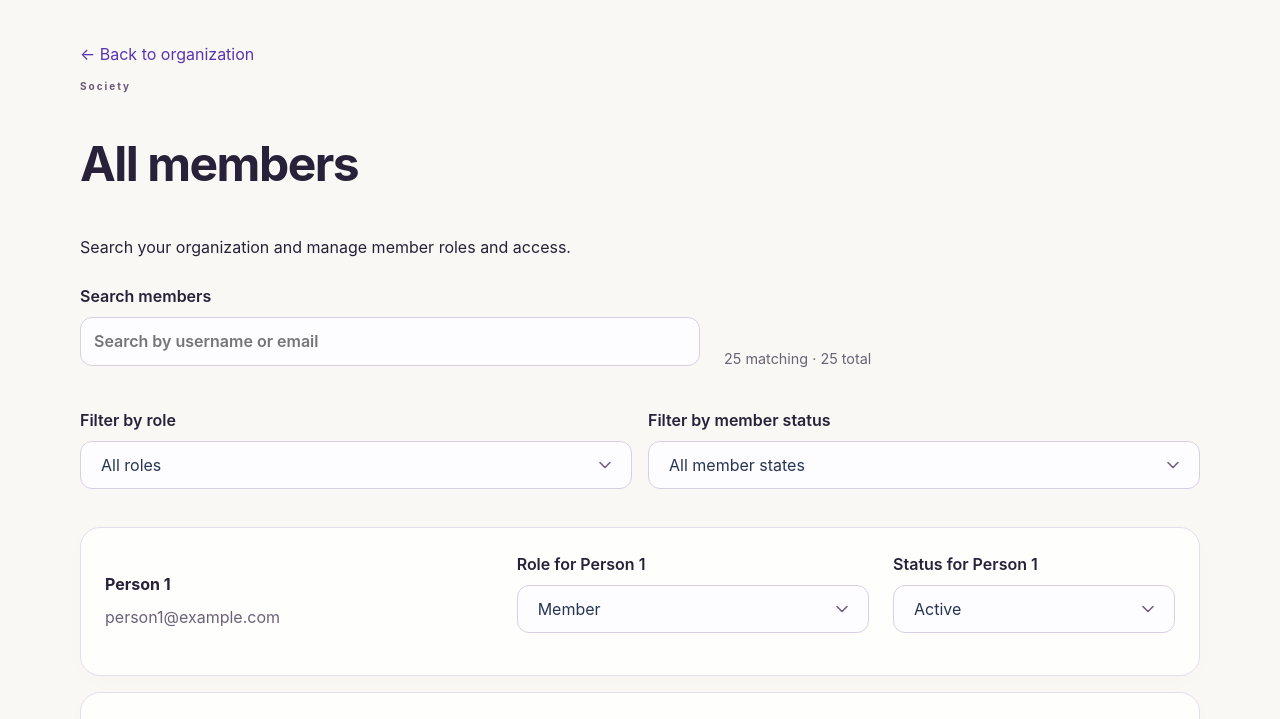
preserves versioned role updates on the full directory
Expected: the text "Person 1" is shown, x1=105 y1=574 x2=171 y2=594
Click the dropdown named "Role for Person 1 " at (569, 609), box x1=517 y1=585 x2=869 y2=633
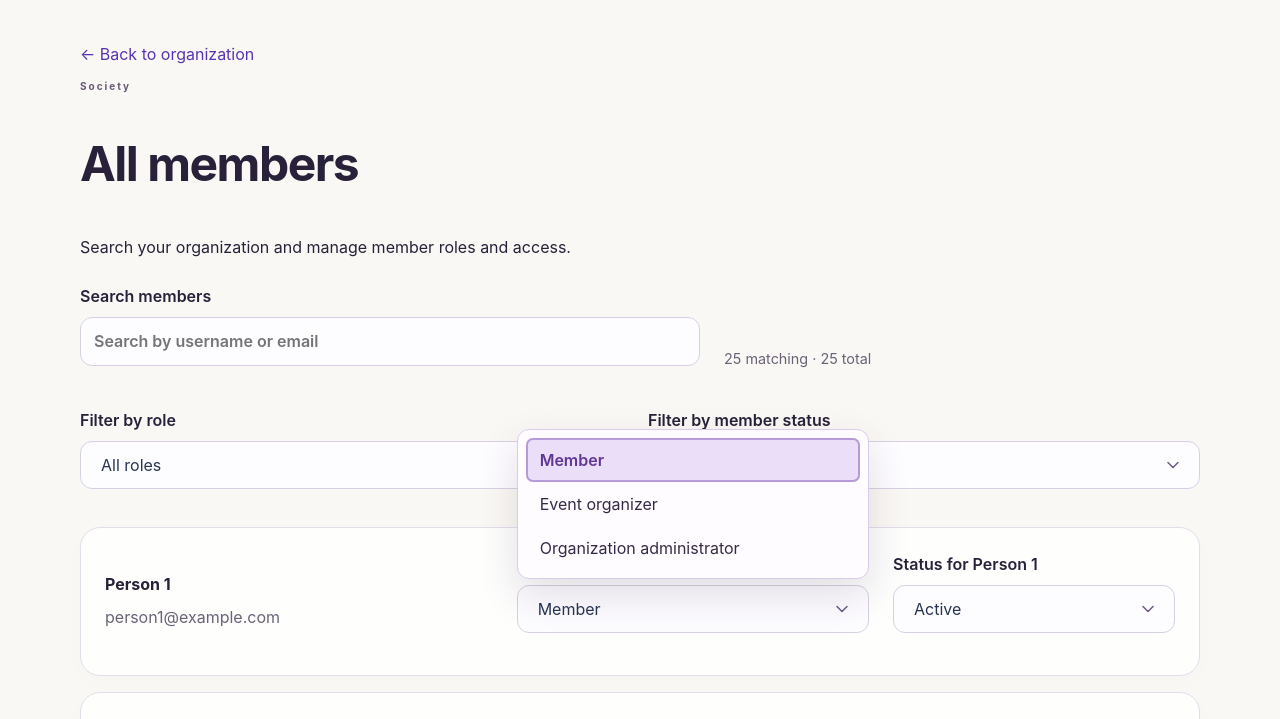
Click the option "Event organizer" at (599, 504), box x1=526 y1=482 x2=860 y2=526
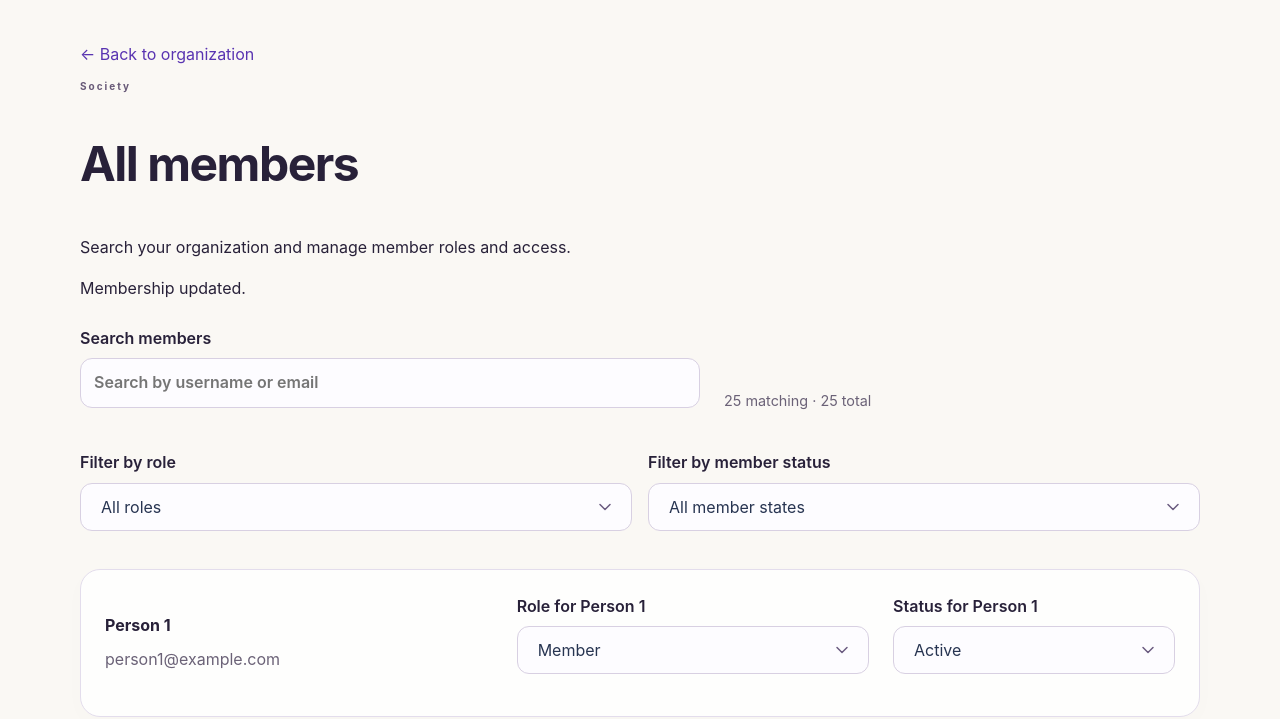
Result: the text "Membership updated." is shown at x1=80 y1=278 x2=246 y2=298
